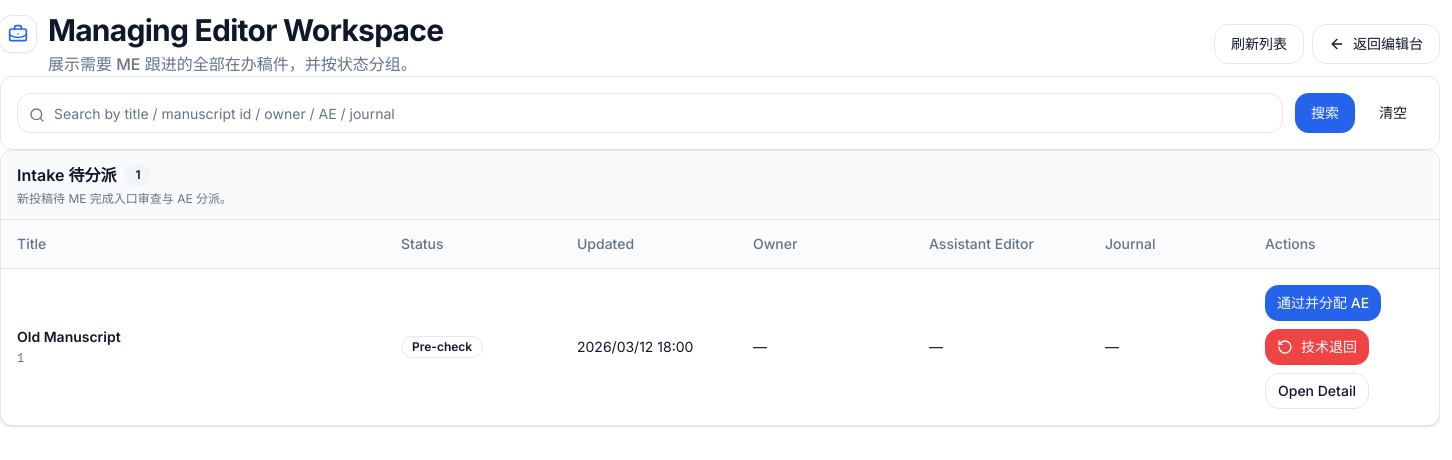
Test case: ManagingWorkspacePanel error state › shows lightweight error if old data exists
Expected: the link "Old Manuscript" is shown, [17,328,121,344]
Note: Trigger a refetch which will fail
Click the button "刷新列表".
click(1259, 44)  # box [1214,24,1304,64]
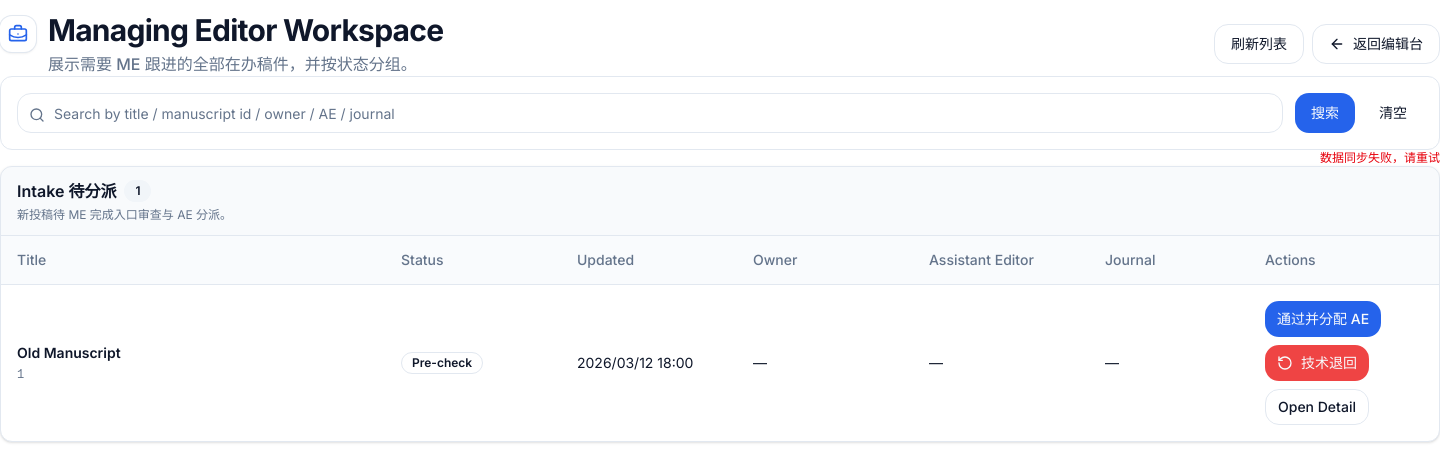
Expected: the link "Old Manuscript" is shown, [17,344,121,360]
Now the text "数据同步失败，请重试" is shown, box [1320,150,1440,165]
